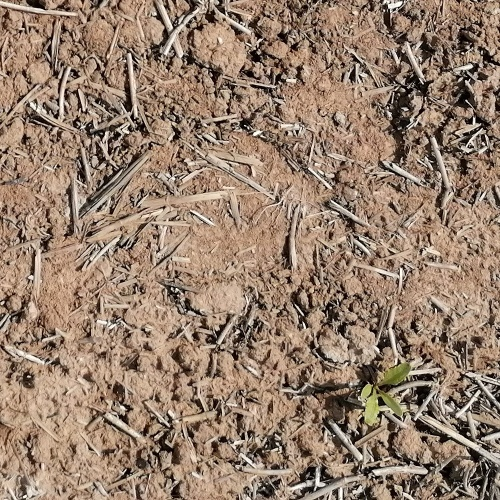beet: (359, 363, 412, 424)
